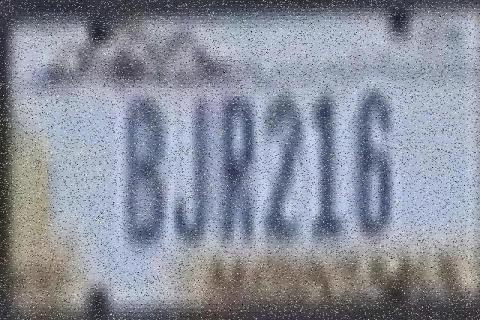LicensePlate: (65, 82, 439, 262)
